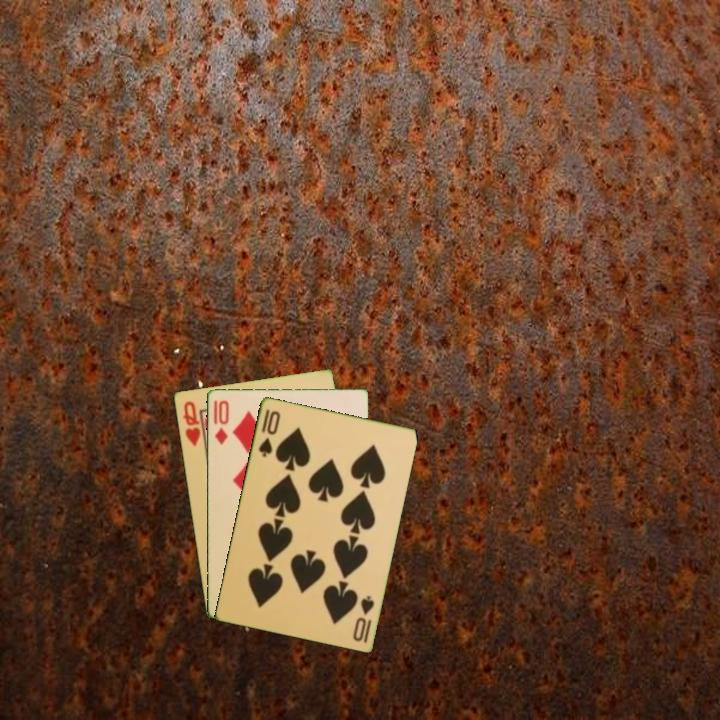10d: (211, 396, 231, 447)
10s: (349, 591, 377, 646), (255, 405, 283, 459)
Qh: (179, 397, 207, 450)
